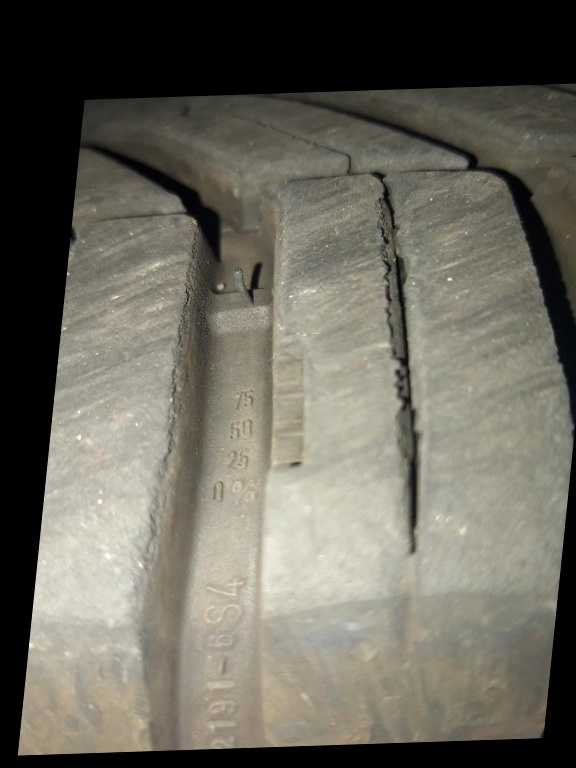temoin:90: (251, 303, 329, 484)
